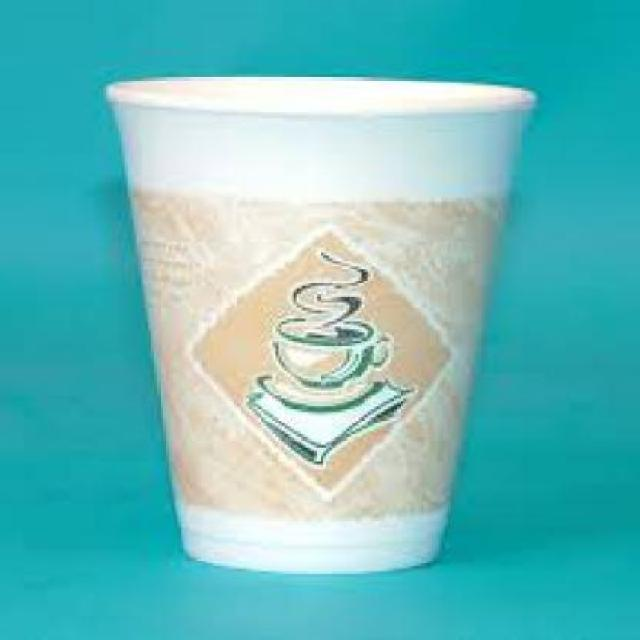paper: (101, 75, 534, 572)
